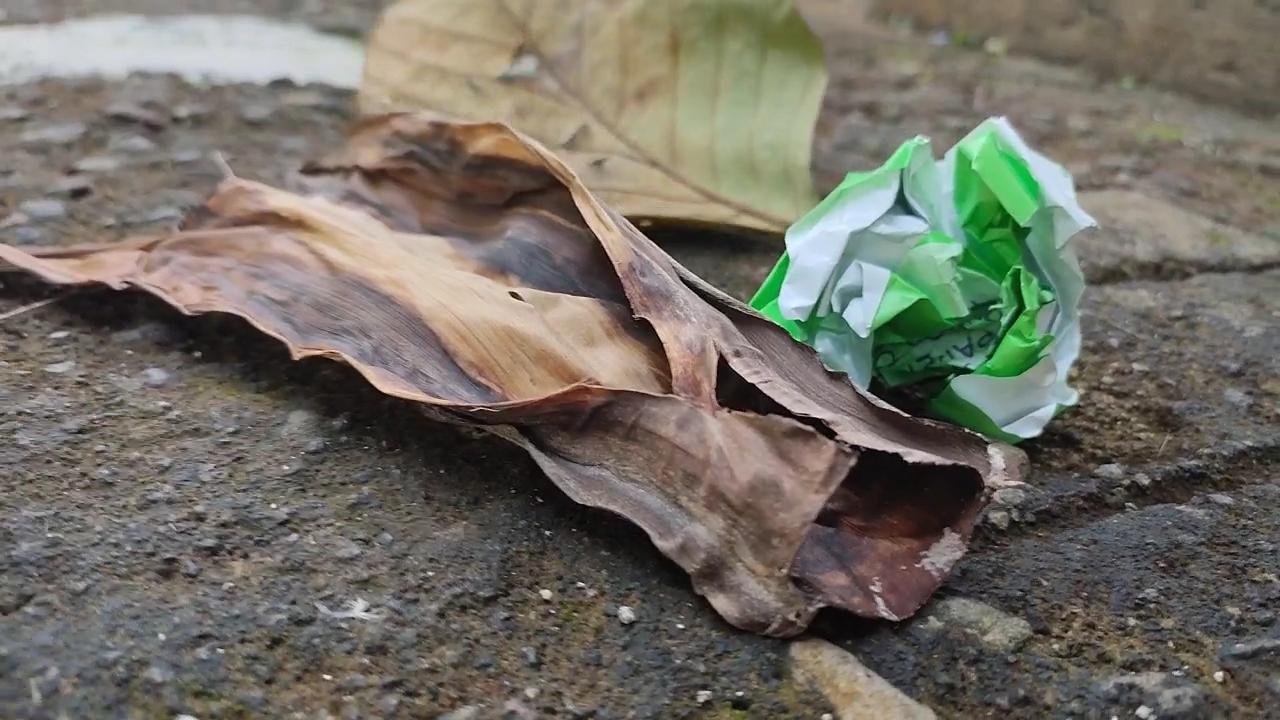Paper: (715, 106, 1100, 448)
